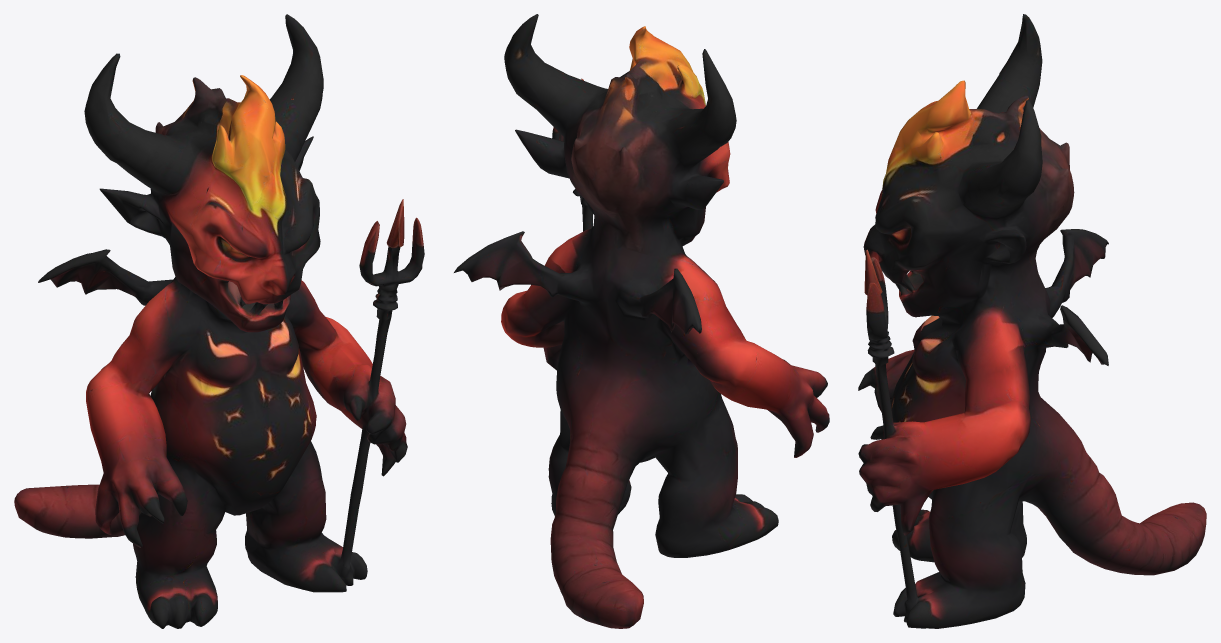
The model's file is gen_twinflame.glb.
3 renders of one model, left to right at view 1: azimuth 30°, elevation 25°; view 2: azimuth 150°, elevation 25°; view 3: azimuth 270°, elevation 25°, orthographic. The views are drawn at different scales.
Parts seen in each view (by area): view 1: Model; view 2: Model; view 3: Model.
Boxes of the visible parts, left/top/right/bottom form: Model: left=14, top=14, right=424, bottom=628; Model: left=454, top=14, right=829, bottom=628; Model: left=858, top=14, right=1206, bottom=628.
Size of the model in its own units: 1.1 by 1.9 by 1.14.
1 material, 1 textured.
